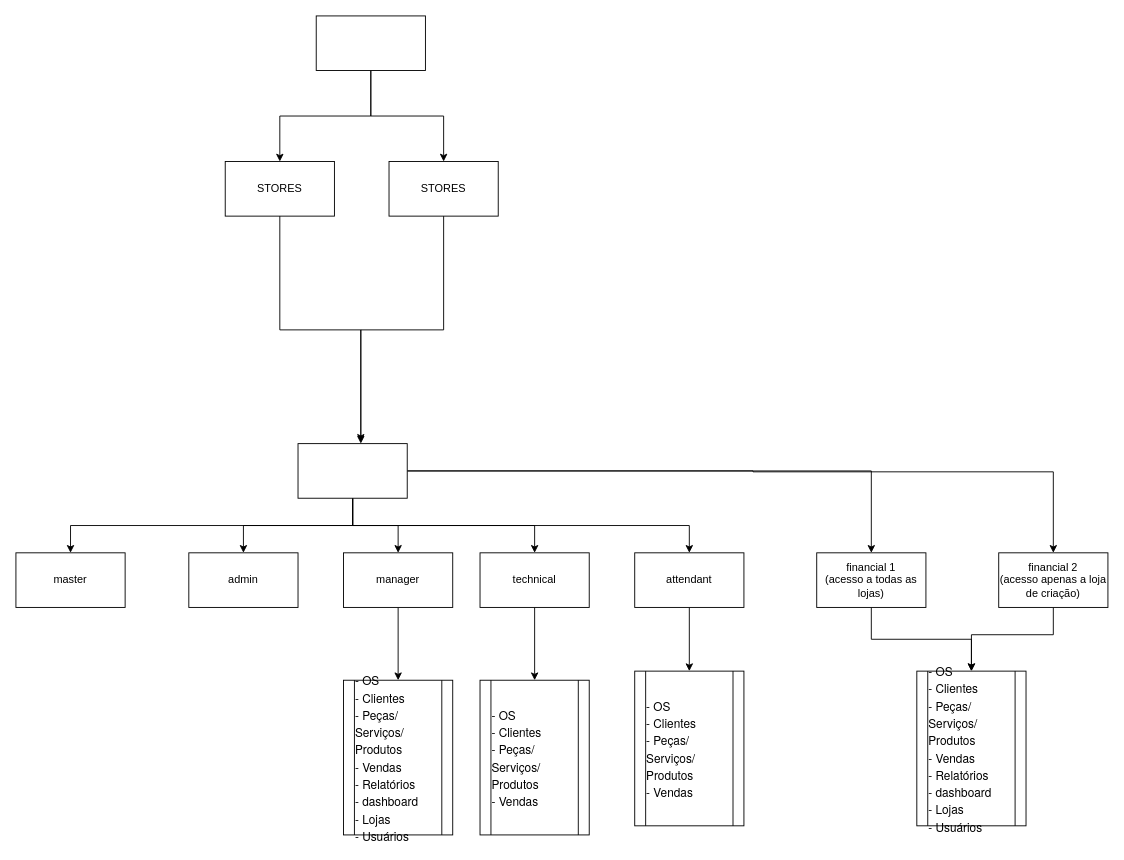
Some shapes in this 1124 by 860 pixel diagram are drawn without their labels. The centre of each missing label's shape, as x and y in pixels:
"HEADQUARTERS" belongs at pixel 370 43.
"USERS" belongs at pixel 352 470.
